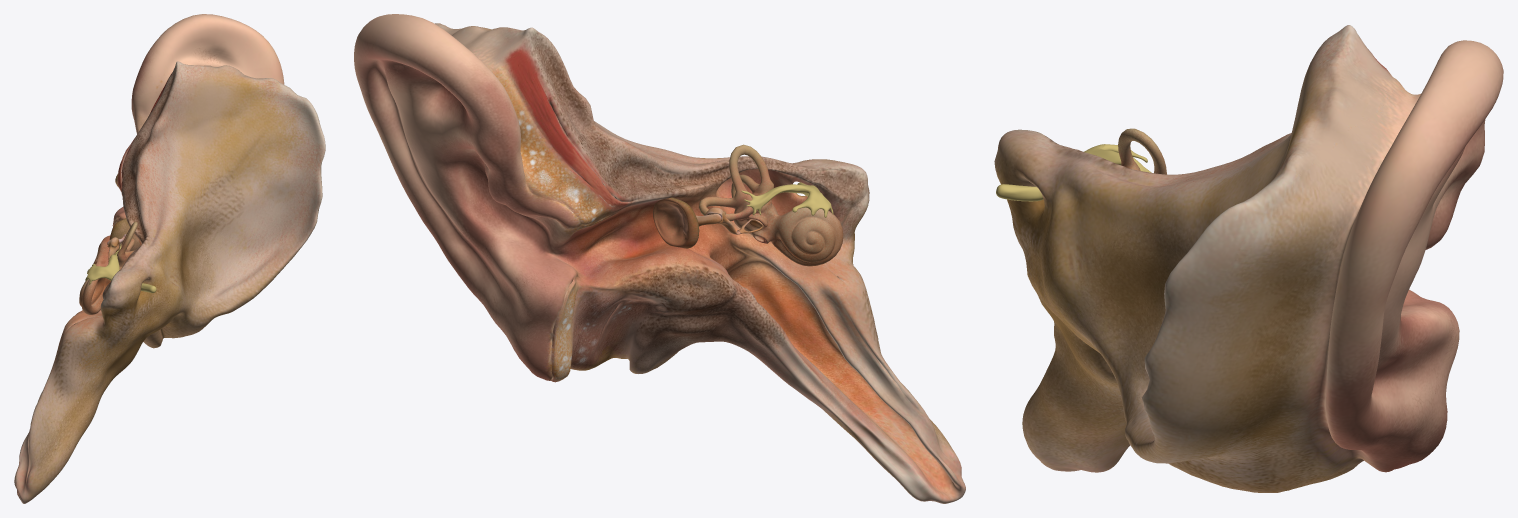
3 views of the same model, side by side, from view 1: azimuth 30°, elevation 25°; view 2: azimuth 150°, elevation 25°; view 3: azimuth 270°, elevation 25° (orthographic). The views are drawn at different scales.
Visible parts, largest first — view 1: Ear_Ear1_blinn_0, Labirynth_Labirynth_blinn_0, Vestibulocochlear_nerve_Vestibulocochlear_nerve_blinn_0, Tympanic_membrane_Tympanic_membrane_blinn_0; view 2: Ear_Ear1_blinn_0, Labirynth_Labirynth_blinn_0, Tympanic_membrane_Tympanic_membrane_blinn_0, Vestibulocochlear_nerve_Vestibulocochlear_nerve_blinn_0, Ossicles_Ossicles_blinn_0; view 3: Ear_Ear1_blinn_0, Vestibulocochlear_nerve_Vestibulocochlear_nerve_blinn_0, Labirynth_Labirynth_blinn_0.
Part boxes in pixels (bbox=[...]): Ear_Ear1_blinn_0: bbox=[14, 14, 325, 503]; Labirynth_Labirynth_blinn_0: bbox=[79, 221, 137, 314]; Vestibulocochlear_nerve_Vestibulocochlear_nerve_blinn_0: bbox=[85, 244, 156, 293]; Tympanic_membrane_Tympanic_membrane_blinn_0: bbox=[109, 218, 140, 251]; Ear_Ear1_blinn_0: bbox=[354, 14, 965, 503]; Labirynth_Labirynth_blinn_0: bbox=[698, 144, 843, 266]; Tympanic_membrane_Tympanic_membrane_blinn_0: bbox=[652, 197, 699, 248]; Vestibulocochlear_nerve_Vestibulocochlear_nerve_blinn_0: bbox=[741, 182, 833, 217]; Ossicles_Ossicles_blinn_0: bbox=[696, 207, 763, 234]; Ear_Ear1_blinn_0: bbox=[994, 25, 1503, 492]; Vestibulocochlear_nerve_Vestibulocochlear_nerve_blinn_0: bbox=[996, 144, 1151, 201]; Labirynth_Labirynth_blinn_0: bbox=[1118, 128, 1166, 174].
Size of the model in its own units: 42.73 by 40.91 by 27.3.
5 materials, 5 textured.
